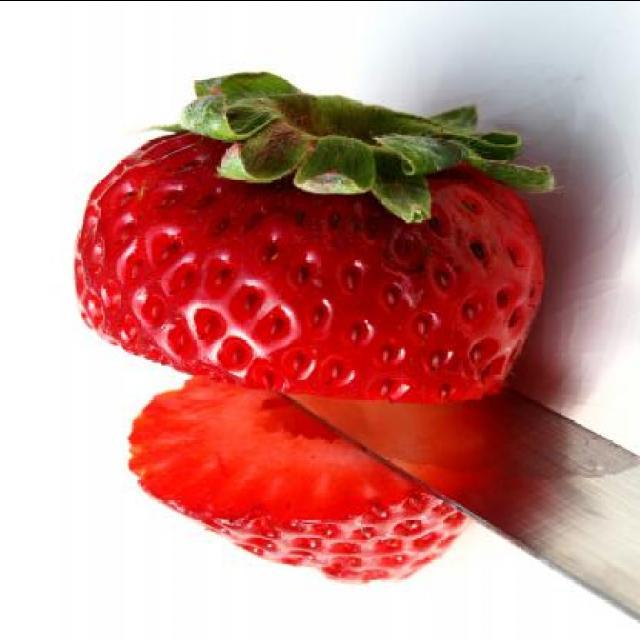Strawberry: (58, 100, 550, 403), (119, 380, 476, 583)
